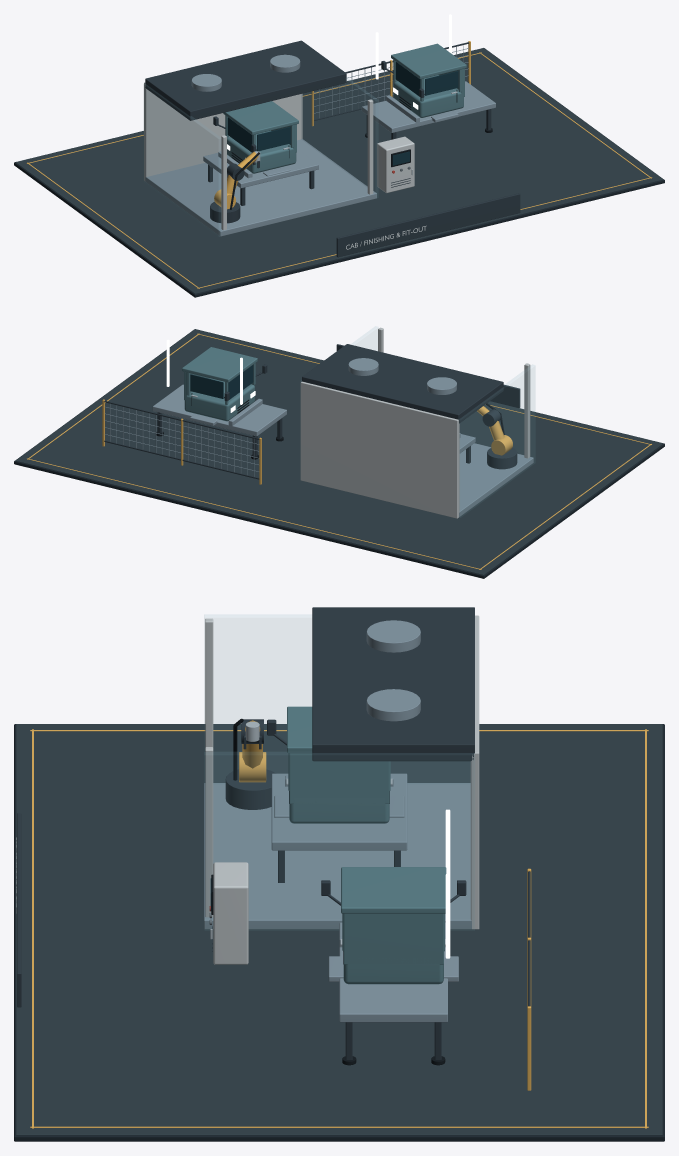
Rendered from cab-finishing.glb.
The picture shows the model from 3 angles, top to bottom: view 1: azimuth 30°, elevation 25°; view 2: azimuth 150°, elevation 25°; view 3: azimuth 270°, elevation 25°; orthographic projection. The views are drawn at different scales.
Visible parts, largest first — view 1: cab_finishing_Workshop_Epoxy, cab_finishing_Brushed_Aluminium, cab_finishing_Enamel_Graphite, cab_finishing_Safety_Polycarbonate, cab_finishing_Enamel_Pearl, cab_finishing_Truck_Petrol, cab_finishing_Cast_Base, cab_finishing_Display_Glass, cab_finishing_Safety_Amber, cab_finishing_Rubber_Seal; view 2: cab_finishing_Workshop_Epoxy, cab_finishing_Enamel_Pearl, cab_finishing_Enamel_Graphite, cab_finishing_Safety_Polycarbonate, cab_finishing_Brushed_Aluminium, cab_finishing_Truck_Petrol, cab_finishing_Cast_Base, cab_finishing_Safety_Amber, cab_finishing_Display_Glass, cab_finishing_Work_Light; view 3: cab_finishing_Workshop_Epoxy, cab_finishing_Safety_Polycarbonate, cab_finishing_Brushed_Aluminium, cab_finishing_Enamel_Graphite, cab_finishing_Truck_Petrol, cab_finishing_Enamel_Pearl, cab_finishing_Cast_Base, cab_finishing_Safety_Amber, cab_finishing_Work_Light.
Boxes of the visible parts, x1,y1,x2,y2 form: cab_finishing_Workshop_Epoxy: (15,48,663,293); cab_finishing_Brushed_Aluminium: (145,45,495,236); cab_finishing_Enamel_Graphite: (145,40,520,257); cab_finishing_Safety_Polycarbonate: (144,78,377,235); cab_finishing_Enamel_Pearl: (144,82,414,230); cab_finishing_Truck_Petrol: (223,43,466,173); cab_finishing_Cast_Base: (14,48,664,297); cab_finishing_Display_Glass: (227,62,458,165); cab_finishing_Safety_Amber: (27,41,652,288); cab_finishing_Rubber_Seal: (230,90,492,209); cab_finishing_Workshop_Epoxy: (15,329,663,575); cab_finishing_Enamel_Pearl: (300,327,530,518); cab_finishing_Enamel_Graphite: (104,344,520,479); cab_finishing_Safety_Polycarbonate: (352,327,534,517); cab_finishing_Brushed_Aluminium: (104,358,533,516); cab_finishing_Truck_Petrol: (182,347,257,421); cab_finishing_Cast_Base: (14,329,664,578); cab_finishing_Safety_Amber: (27,333,651,569); cab_finishing_Display_Glass: (190,365,253,399); cab_finishing_Work_Light: (166,339,255,412); cab_finishing_Workshop_Epoxy: (16,724,662,1135); cab_finishing_Safety_Polycarbonate: (204,615,474,930); cab_finishing_Brushed_Aluminium: (204,620,471,1022); cab_finishing_Enamel_Graphite: (17,607,530,1059); cab_finishing_Truck_Petrol: (287,706,446,984); cab_finishing_Enamel_Pearl: (205,615,479,964); cab_finishing_Cast_Base: (14,724,664,1141); cab_finishing_Safety_Amber: (30,720,648,1128); cab_finishing_Work_Light: (445,809,450,958).
Size of the model in its own units: 18 by 4.09 by 12.
